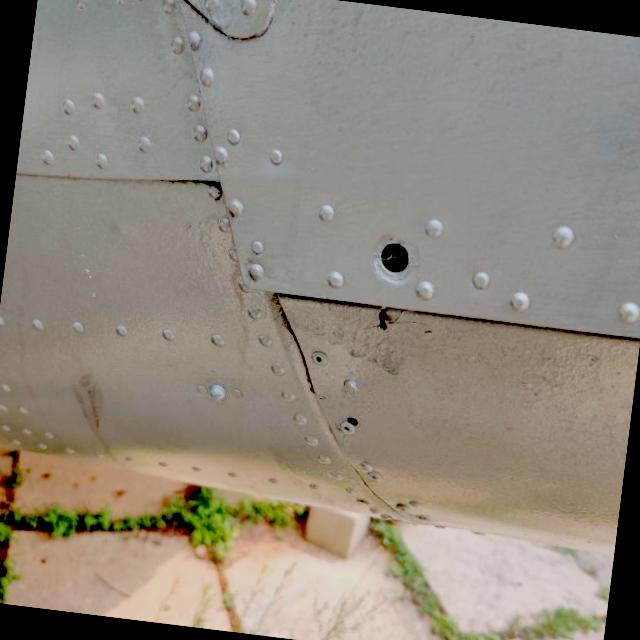missing-head: (332, 193, 468, 330)
